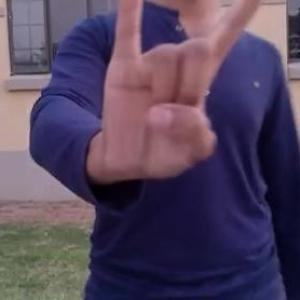takeoff-hand: (110, 0, 277, 189)
